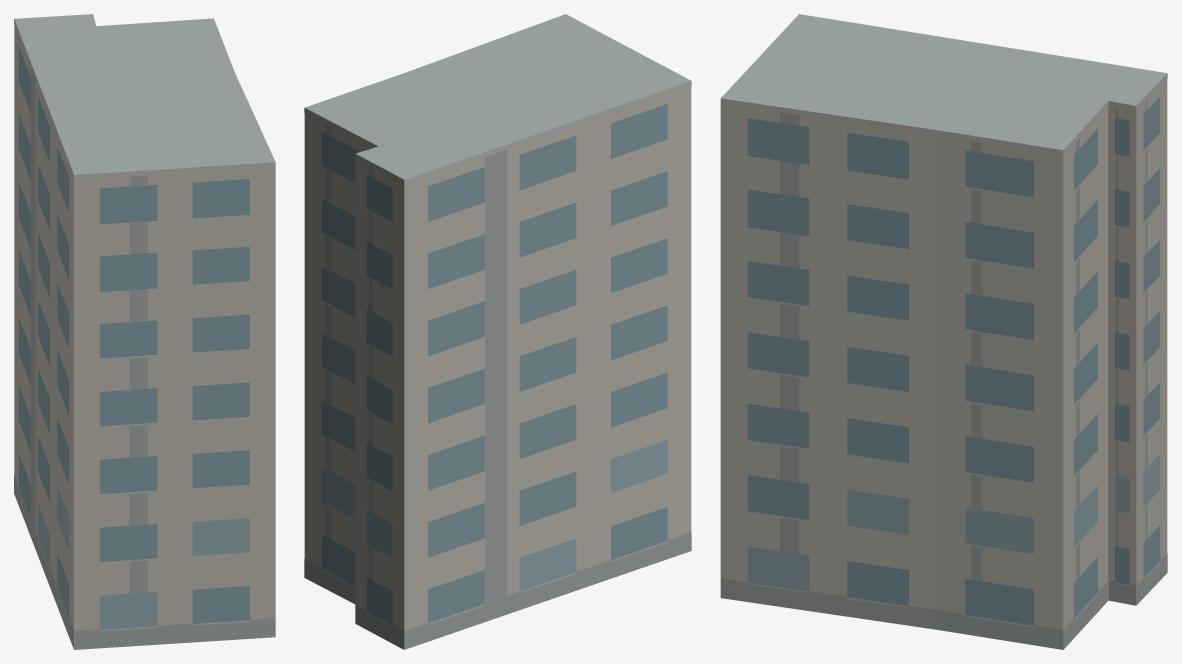
The model's file is survey-upis-32851809.glb.
The picture shows the model from 3 angles, left to right: view 1: azimuth 30°, elevation 25°; view 2: azimuth 150°, elevation 25°; view 3: azimuth 270°, elevation 25°; orthographic projection. The views are drawn at different scales.
Visible parts, largest first — view 1: survey-upis-32851809.tmp; view 2: survey-upis-32851809.tmp; view 3: survey-upis-32851809.tmp.
Boxes of the visible parts, x1,y1,x2,y2 form: survey-upis-32851809.tmp: (14,14,275,649); survey-upis-32851809.tmp: (304,14,691,649); survey-upis-32851809.tmp: (720,14,1167,649).
Bounding box in the file's own units: 12.81 × 21.9 × 17.76.
